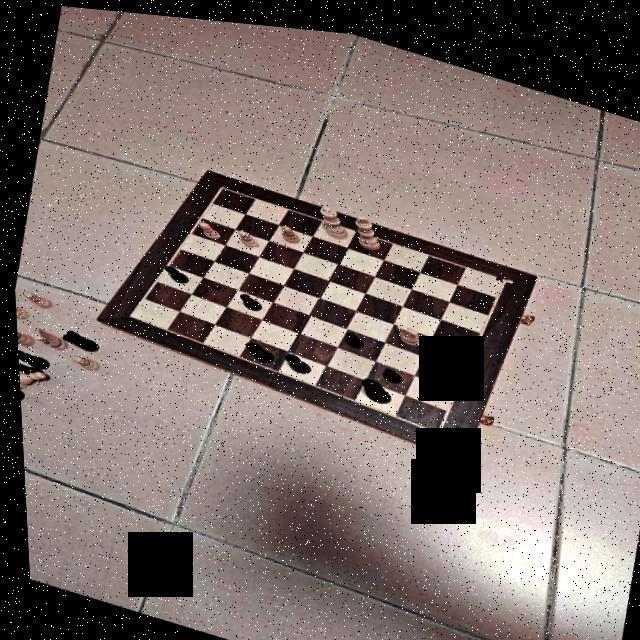chess-table-corners: (424, 418, 441, 428), (493, 265, 510, 274), (214, 178, 228, 188), (120, 308, 134, 318)
